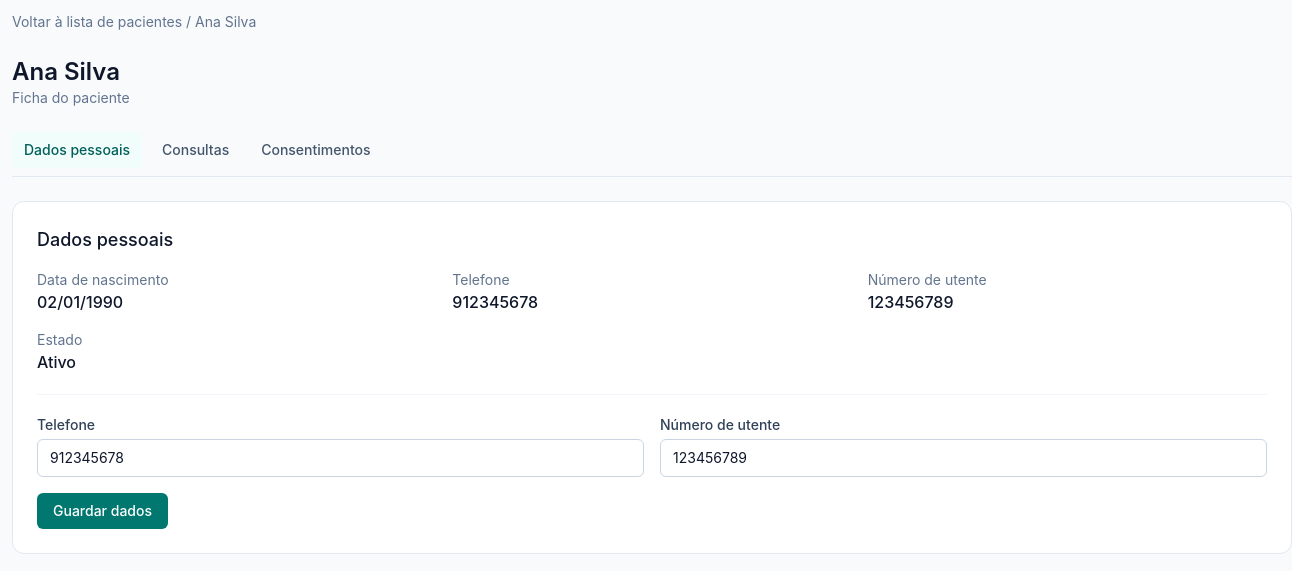
Test: PatientDetailPage consent workflow › shows patient data and immutable consent history
The width and height of the screenshot is (1292, 571).
Check: the heading "Ana Silva" is shown, box [12,57,120,86]
What coordinates should you click on to do the following:
click the tab "Consentimentos"
I would click on:
 (316, 150)
Its box is [249,132,382,168].
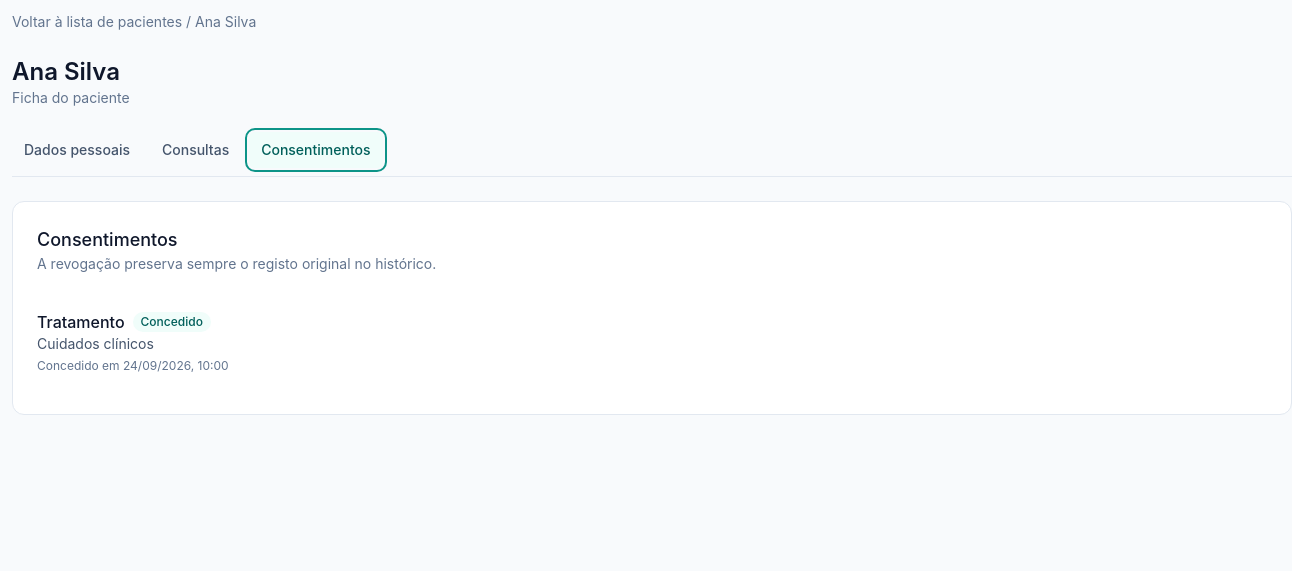
Check: the text "Cuidados clínicos" is shown, box [37,335,154,352]
Check: the text "Concedido" is shown, box [132,312,211,332]
